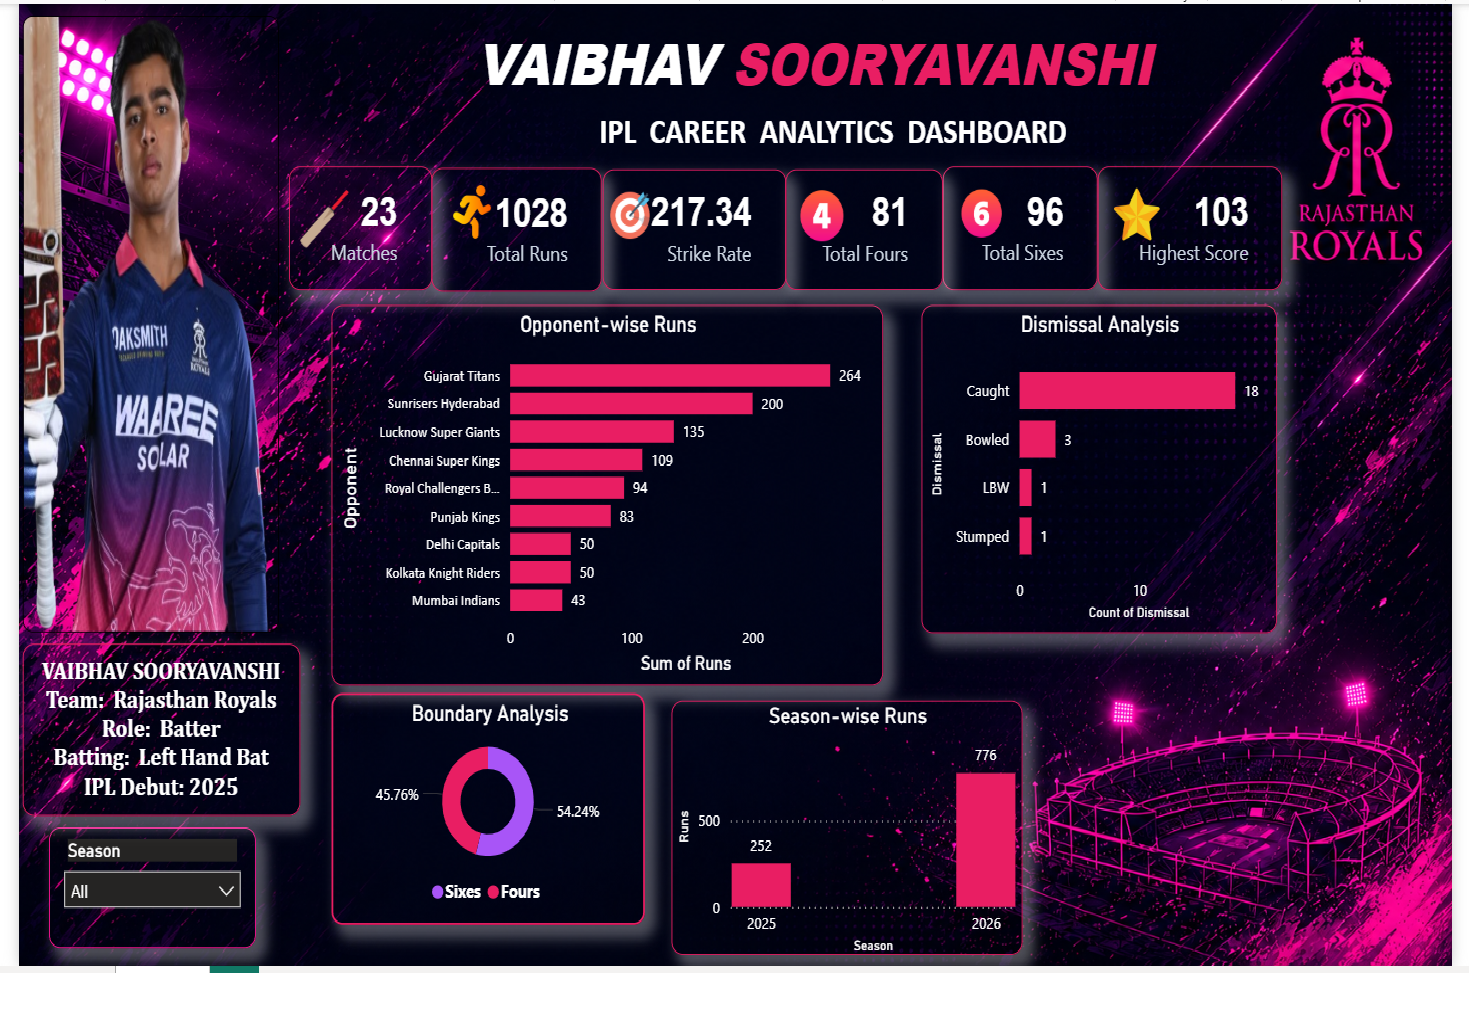

Layout of this report page (visuals, bound fields, positions):
{"tool":"powerbi","page":{"name":"Page 1","canvas":[1280,720],"ordinal":0},"visuals":[{"type":"cardVisual","fields":{"Data":["Vaibhav_Sooryavanshi_IPL_Dataset.Matches"]},"box":[240.7,122.1,127.9,93],"z":0},{"type":"barChart","title":"Opponent-wise Runs","fields":{"Category":["Vaibhav_Sooryavanshi_IPL_Dataset.Opponent"],"Y":["Sum(Vaibhav_Sooryavanshi_IPL_Dataset.Runs)"]},"box":[279.2,225.6,492.4,284.7],"z":1000},{"type":"clusteredColumnChart","title":"Season-wise Runs","fields":{"Category":["Vaibhav_Sooryavanshi_IPL_Dataset.Date.Variation.Date Hierarchy.Year"],"Y":["Vaibhav_Sooryavanshi_IPL_Dataset.Total Runs"]},"box":[582.6,520.9,314,190.7],"z":2000},{"type":"slicer","fields":{"Values":["Vaibhav_Sooryavanshi_IPL_Dataset.Season"]},"box":[26.7,616.3,184.9,90.7],"z":3000},{"type":"clusteredBarChart","title":"Dismissal Analysis","fields":{"Category":["Vaibhav_Sooryavanshi_IPL_Dataset.Dismissal"],"Y":["CountNonNull(Vaibhav_Sooryavanshi_IPL_Dataset.Dismissal)"]},"box":[805.8,225.6,317.4,245.3],"z":4000},{"type":"textbox","box":[3.5,479.1,247.7,129.1],"z":5000},{"type":"donutChart","title":"Boundary Analysis","fields":{"Category":["BoundaryType.BoundaryType"],"Y":["BoundaryType.Boundary Count"]},"box":[279.1,516.3,280.2,173.3],"z":6000},{"type":"cardVisual","fields":{"Data":["Vaibhav_Sooryavanshi_IPL_Dataset.Total Runs"]},"box":[368.6,123.3,152.3,93],"z":7000},{"type":"cardVisual","fields":{"Data":["Vaibhav_Sooryavanshi_IPL_Dataset.Strike Rate"]},"box":[520.9,124.4,164,90.7],"z":8000},{"type":"cardVisual","fields":{"Data":["Vaibhav_Sooryavanshi_IPL_Dataset.Total Sixes"]},"box":[825.6,122.1,138.4,93],"z":9000},{"type":"cardVisual","fields":{"Data":["Vaibhav_Sooryavanshi_IPL_Dataset.Highest Score"]},"box":[964,122.1,165.1,93],"z":10000},{"type":"cardVisual","fields":{"Data":["Vaibhav_Sooryavanshi_IPL_Dataset.Total Fours"]},"box":[684.9,124.4,140.7,90.7],"z":11000},{"type":"image","box":[527.9,132.6,34.9,51.2],"z":12000},{"type":"image","box":[251.2,136,43,50],"z":13000},{"type":"image","box":[977.9,137.2,40.7,40.7],"z":14000},{"type":"image","box":[695.4,139.5,43,38.4],"z":15000},{"type":"image","box":[381.4,125.6,45.3,61.6],"z":16000},{"type":"image","box":[841.9,131.4,36,50],"z":17000},{"type":"image","box":[3.5,9.3,229.1,461.6],"z":18000},{"type":"textbox","box":[404.7,9.3,636,80.2],"z":19000},{"type":"textbox","box":[514,73.3,450,48.8],"z":20000}]}

Visuals, with their boxes on the page's 1280x720 design canvas (x1, y1, x2, y2). These are canvas units, not pixel positions in the 1469x1011 screenshot, which may show the page scaled, cropped or inside an application window:
cardVisual - Vaibhav_Sooryavanshi_IPL_Dataset.Matches: <region>241, 122, 369, 215</region>
"Opponent-wise Runs" barChart: <region>279, 226, 772, 510</region>
"Season-wise Runs" clusteredColumnChart: <region>583, 521, 897, 712</region>
slicer - Vaibhav_Sooryavanshi_IPL_Dataset.Season: <region>27, 616, 212, 707</region>
"Dismissal Analysis" clusteredBarChart: <region>806, 226, 1123, 471</region>
textbox: <region>4, 479, 251, 608</region>
"Boundary Analysis" donutChart: <region>279, 516, 559, 690</region>
cardVisual - Vaibhav_Sooryavanshi_IPL_Dataset.Total Runs: <region>369, 123, 521, 216</region>
cardVisual - Vaibhav_Sooryavanshi_IPL_Dataset.Strike Rate: <region>521, 124, 685, 215</region>
cardVisual - Vaibhav_Sooryavanshi_IPL_Dataset.Total Sixes: <region>826, 122, 964, 215</region>
cardVisual - Vaibhav_Sooryavanshi_IPL_Dataset.Highest Score: <region>964, 122, 1129, 215</region>
cardVisual - Vaibhav_Sooryavanshi_IPL_Dataset.Total Fours: <region>685, 124, 826, 215</region>
image: <region>528, 133, 563, 184</region>
image: <region>251, 136, 294, 186</region>
image: <region>978, 137, 1019, 178</region>
image: <region>695, 140, 738, 178</region>
image: <region>381, 126, 427, 187</region>
image: <region>842, 131, 878, 181</region>
image: <region>4, 9, 233, 471</region>
textbox: <region>405, 9, 1041, 90</region>
textbox: <region>514, 73, 964, 122</region>
